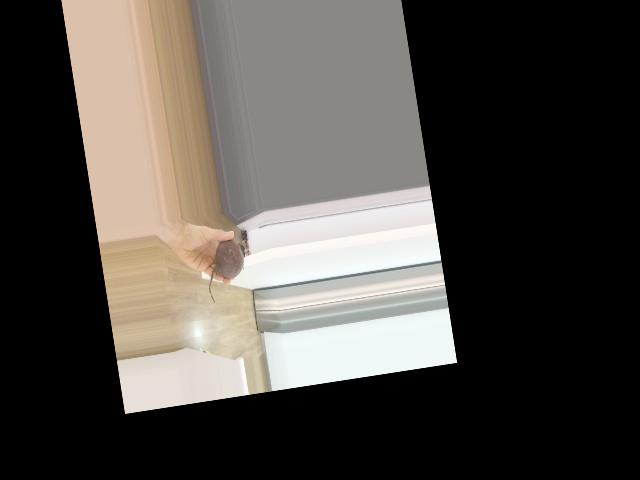beet: (202, 237, 251, 303)
